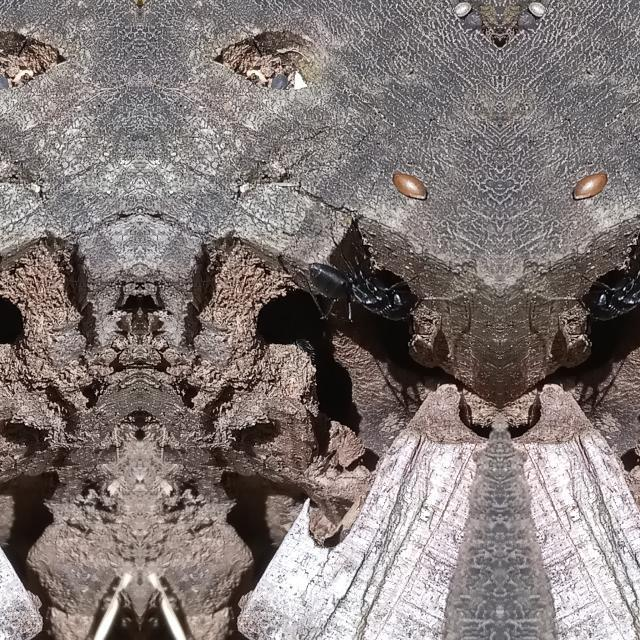Camponotus: (286, 244, 428, 322), (570, 244, 640, 322)
